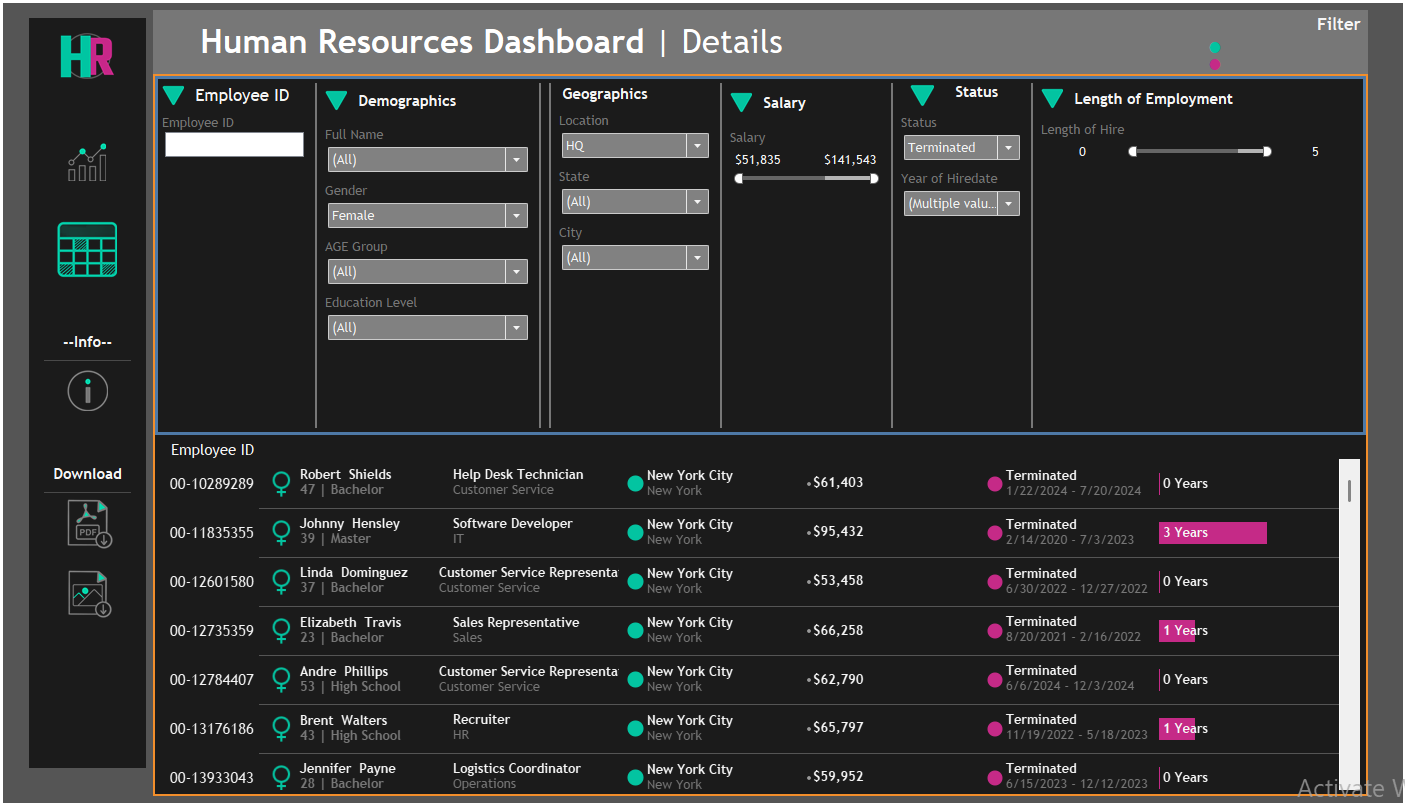

The dashboard page shown, as its layout file describes it:
{"tool":"tableau","page":{"name":"HR | Details","canvas":[1400,800],"ordinal":0},"visuals":[{"type":"text","box":[1286,6,100,30]},{"type":"text","box":[150,7,677.5,64]},{"type":"blank","box":[827.5,7,537.5,64]},{"type":"image","param":"Image/Logo.png","box":[36,25,97,55]},{"type":"text","box":[1203,37,89,36]},{"type":"dashboard-object","box":[155,76,30,32]},{"type":"text","box":[185,76,213.5,32]},{"type":"blank","box":[398.5,76,10,353]},{"type":"dashboard-object","box":[408.5,76,30,44]},{"type":"text","box":[438.5,76,184,44]},{"type":"dashboard-object","box":[542,76,30,32]},{"type":"text","box":[572,76,61.5,32]},{"type":"blank","box":[622.5,76,10,353]},{"type":"blank","box":[632.5,76,10,353]},{"type":"blank","box":[633.5,76,49.5,32]},{"type":"text","box":[642.5,76,161,30]},{"type":"blank","box":[803.5,76,10,353]},{"type":"dashboard-object","box":[813.5,76,30,91]},{"type":"text","box":[843.5,76,90,91]},{"type":"blank","box":[974.5,76,10,353]},{"type":"dashboard-object","box":[984.5,76,51,32]},{"type":"text","box":[1035.5,76,79,26]},{"type":"blank","box":[1114.5,76,10,353]},{"type":"dashboard-object","box":[1124.5,76,30,39]},{"type":"text","box":[1154.5,76,205.5,39]},{"type":"blank","box":[36,80,97,60]},{"type":"filter","title":"details","param":"[federated.1b5o2vp1k13vo616yvkzb0z88h2i].[none:Calculation_1937110846422126599:n","box":[642.5,106,161,56]},{"type":"filter","title":"details","param":"[federated.1b5o2vp1k13vo616yvkzb0z88h2i].[none:Employee_ID:nk]","box":[155,108,243.5,53]},{"type":"filter","title":"details","param":"[federated.1b5o2vp1k13vo616yvkzb0z88h2i].[none:Job Title:nk]","box":[542,108,141,79]},{"type":"filter","title":"details","param":"[federated.1b5o2vp1k13vo616yvkzb0z88h2i].[none:Calculation_1937110847479668753:n","box":[984.5,108,130,56]},{"type":"filter","title":"details","param":"[federated.1b5o2vp1k13vo616yvkzb0z88h2i].[sum:Calculation_1426515241898348553:qk","box":[1124.5,115,235.5,68]},{"type":"filter","title":"details","param":"[federated.1b5o2vp1k13vo616yvkzb0z88h2i].[none:Calculation_1426515241864122372:n","box":[408.5,120,214,56]},{"type":"dashboard-object","box":[36,140,97,38]},{"type":"filter","title":"details","param":"[federated.1b5o2vp1k13vo616yvkzb0z88h2i].[none:State:nk]","box":[642.5,162,161,56]},{"type":"filter","title":"details","param":"[federated.1b5o2vp1k13vo616yvkzb0z88h2i].[yr:Hiredate:ok]","box":[984.5,164,130,56]},{"type":"filter","title":"details","param":"[federated.1b5o2vp1k13vo616yvkzb0z88h2i].[sum:Salary:qk]","box":[813.5,167,161,68]},{"type":"filter","title":"details","param":"[federated.1b5o2vp1k13vo616yvkzb0z88h2i].[none:Gender:nk]","box":[408.5,176,214,56]},{"type":"blank","box":[36,178,97,38]},{"type":"filter","title":"details","param":"[federated.1b5o2vp1k13vo616yvkzb0z88h2i].[none:Department:nk]","box":[542,187,141,76]},{"type":"dashboard-object","box":[36,216,97,60]},{"type":"filter","title":"details","param":"[federated.1b5o2vp1k13vo616yvkzb0z88h2i].[none:City:nk]","box":[642.5,218,161,56]},{"type":"filter","title":"details","param":"[federated.1b5o2vp1k13vo616yvkzb0z88h2i].[none:Calculation_1937110846440509456:n","box":[408.5,232,214,56]},{"type":"text","box":[142,266,1257,267]},{"type":"blank","box":[36,276,97,50]},{"type":"filter","title":"details","param":"[federated.1b5o2vp1k13vo616yvkzb0z88h2i].[none:Education Level:nk]","box":[408.5,288,214,56]},{"type":"text","box":[36,326,97,26]},{"type":"blank","box":[36,352,97,11]},{"type":"dashboard-object","box":[36,363,97,49]},{"type":"blank","box":[36,412,97,46]},{"type":"worksheet","title":"details","mark":"Shape","rows":["Employee_ID"],"cols":["Calculation_1426515241874878472","Calculation_1426515241874878472","Calculation_1426515241874878472","Calculation_1426515241874878472","Calculation_1426515241874878472","Calculation_1426515241898348553"],"box":[152,432,1211,359]},{"type":"text","box":[36,458,97,26]},{"type":"blank","box":[36,484,97,11]},{"type":"dashboard-object","box":[36,495,97,51]},{"type":"blank","box":[36,546,97,20]},{"type":"dashboard-object","box":[36,566,97,49]}]}

Visuals, with their boxes on the page's 1400x800 design canvas (x1, y1, x2, y2). These are canvas units, not pixel positions in the 1405x804 screenshot, which may show the page scaled, cropped or inside an application window:
text: (left=1286, top=6, right=1386, bottom=36)
text: (left=150, top=7, right=828, bottom=71)
blank: (left=828, top=7, right=1365, bottom=71)
image: (left=36, top=25, right=133, bottom=80)
text: (left=1203, top=37, right=1292, bottom=73)
dashboard-object: (left=155, top=76, right=185, bottom=108)
text: (left=185, top=76, right=398, bottom=108)
blank: (left=398, top=76, right=408, bottom=429)
dashboard-object: (left=408, top=76, right=438, bottom=120)
text: (left=438, top=76, right=622, bottom=120)
dashboard-object: (left=542, top=76, right=572, bottom=108)
text: (left=572, top=76, right=634, bottom=108)
blank: (left=622, top=76, right=632, bottom=429)
blank: (left=632, top=76, right=642, bottom=429)
blank: (left=634, top=76, right=683, bottom=108)
text: (left=642, top=76, right=804, bottom=106)
blank: (left=804, top=76, right=814, bottom=429)
dashboard-object: (left=814, top=76, right=844, bottom=167)
text: (left=844, top=76, right=934, bottom=167)
blank: (left=974, top=76, right=984, bottom=429)
dashboard-object: (left=984, top=76, right=1036, bottom=108)
text: (left=1036, top=76, right=1114, bottom=102)
blank: (left=1114, top=76, right=1124, bottom=429)
dashboard-object: (left=1124, top=76, right=1154, bottom=115)
text: (left=1154, top=76, right=1360, bottom=115)
blank: (left=36, top=80, right=133, bottom=140)
"details" filter: (left=642, top=106, right=804, bottom=162)
"details" filter: (left=155, top=108, right=398, bottom=161)
"details" filter: (left=542, top=108, right=683, bottom=187)
"details" filter: (left=984, top=108, right=1114, bottom=164)
"details" filter: (left=1124, top=115, right=1360, bottom=183)
"details" filter: (left=408, top=120, right=622, bottom=176)
dashboard-object: (left=36, top=140, right=133, bottom=178)
"details" filter: (left=642, top=162, right=804, bottom=218)
"details" filter: (left=984, top=164, right=1114, bottom=220)
"details" filter: (left=814, top=167, right=974, bottom=235)
"details" filter: (left=408, top=176, right=622, bottom=232)
blank: (left=36, top=178, right=133, bottom=216)
"details" filter: (left=542, top=187, right=683, bottom=263)
dashboard-object: (left=36, top=216, right=133, bottom=276)
"details" filter: (left=642, top=218, right=804, bottom=274)
"details" filter: (left=408, top=232, right=622, bottom=288)
text: (left=142, top=266, right=1399, bottom=533)
blank: (left=36, top=276, right=133, bottom=326)
"details" filter: (left=408, top=288, right=622, bottom=344)
text: (left=36, top=326, right=133, bottom=352)
blank: (left=36, top=352, right=133, bottom=363)
dashboard-object: (left=36, top=363, right=133, bottom=412)
blank: (left=36, top=412, right=133, bottom=458)
"details" worksheet (Shape marks): (left=152, top=432, right=1363, bottom=791)
text: (left=36, top=458, right=133, bottom=484)
blank: (left=36, top=484, right=133, bottom=495)
dashboard-object: (left=36, top=495, right=133, bottom=546)
blank: (left=36, top=546, right=133, bottom=566)
dashboard-object: (left=36, top=566, right=133, bottom=615)
